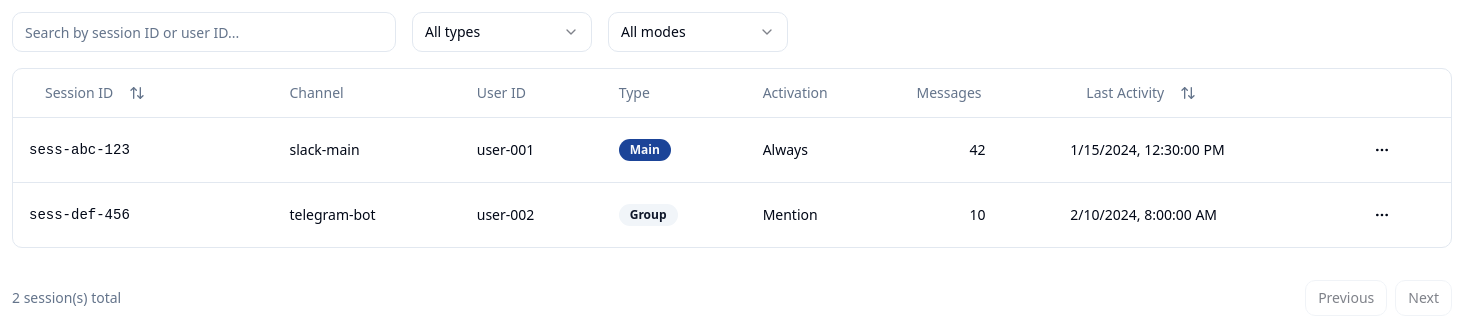
Test case: SessionsTable › search input filters sessions
The width and height of the screenshot is (1464, 333).
In the field with placeholder "Search by session ID or user ID...": (204, 32) [12, 12, 396, 52], type "sess-abc"
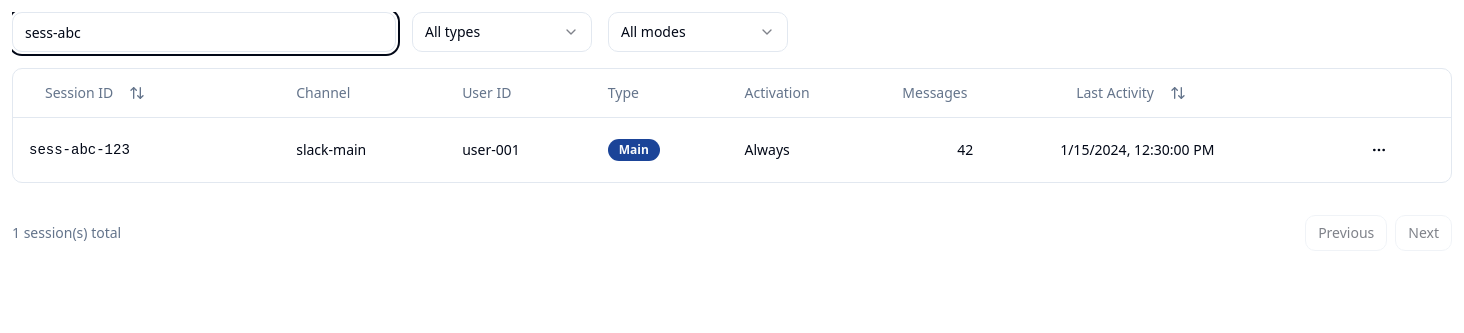
Expected: the text "sess-abc-123" is shown, [29, 142, 130, 158]
Now the text "sess-def-456" is gone
